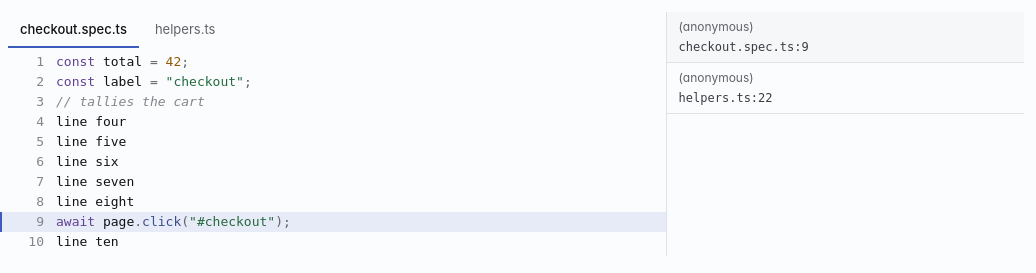
Test: SourceTab › lists stack frames and switches file when a frame is clicked
The width and height of the screenshot is (1036, 273).
Expected: the text "checkout.spec.ts:9" is shown, [679,38,809,56]
Click the text "helpers.ts:22": (726, 98) [679,89,772,107]
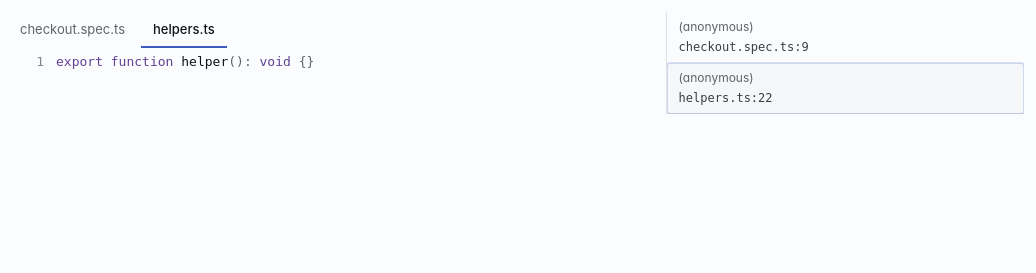
Now the element showing "1 export function helper(): void {}" is shown, box [36,54,314,68]
